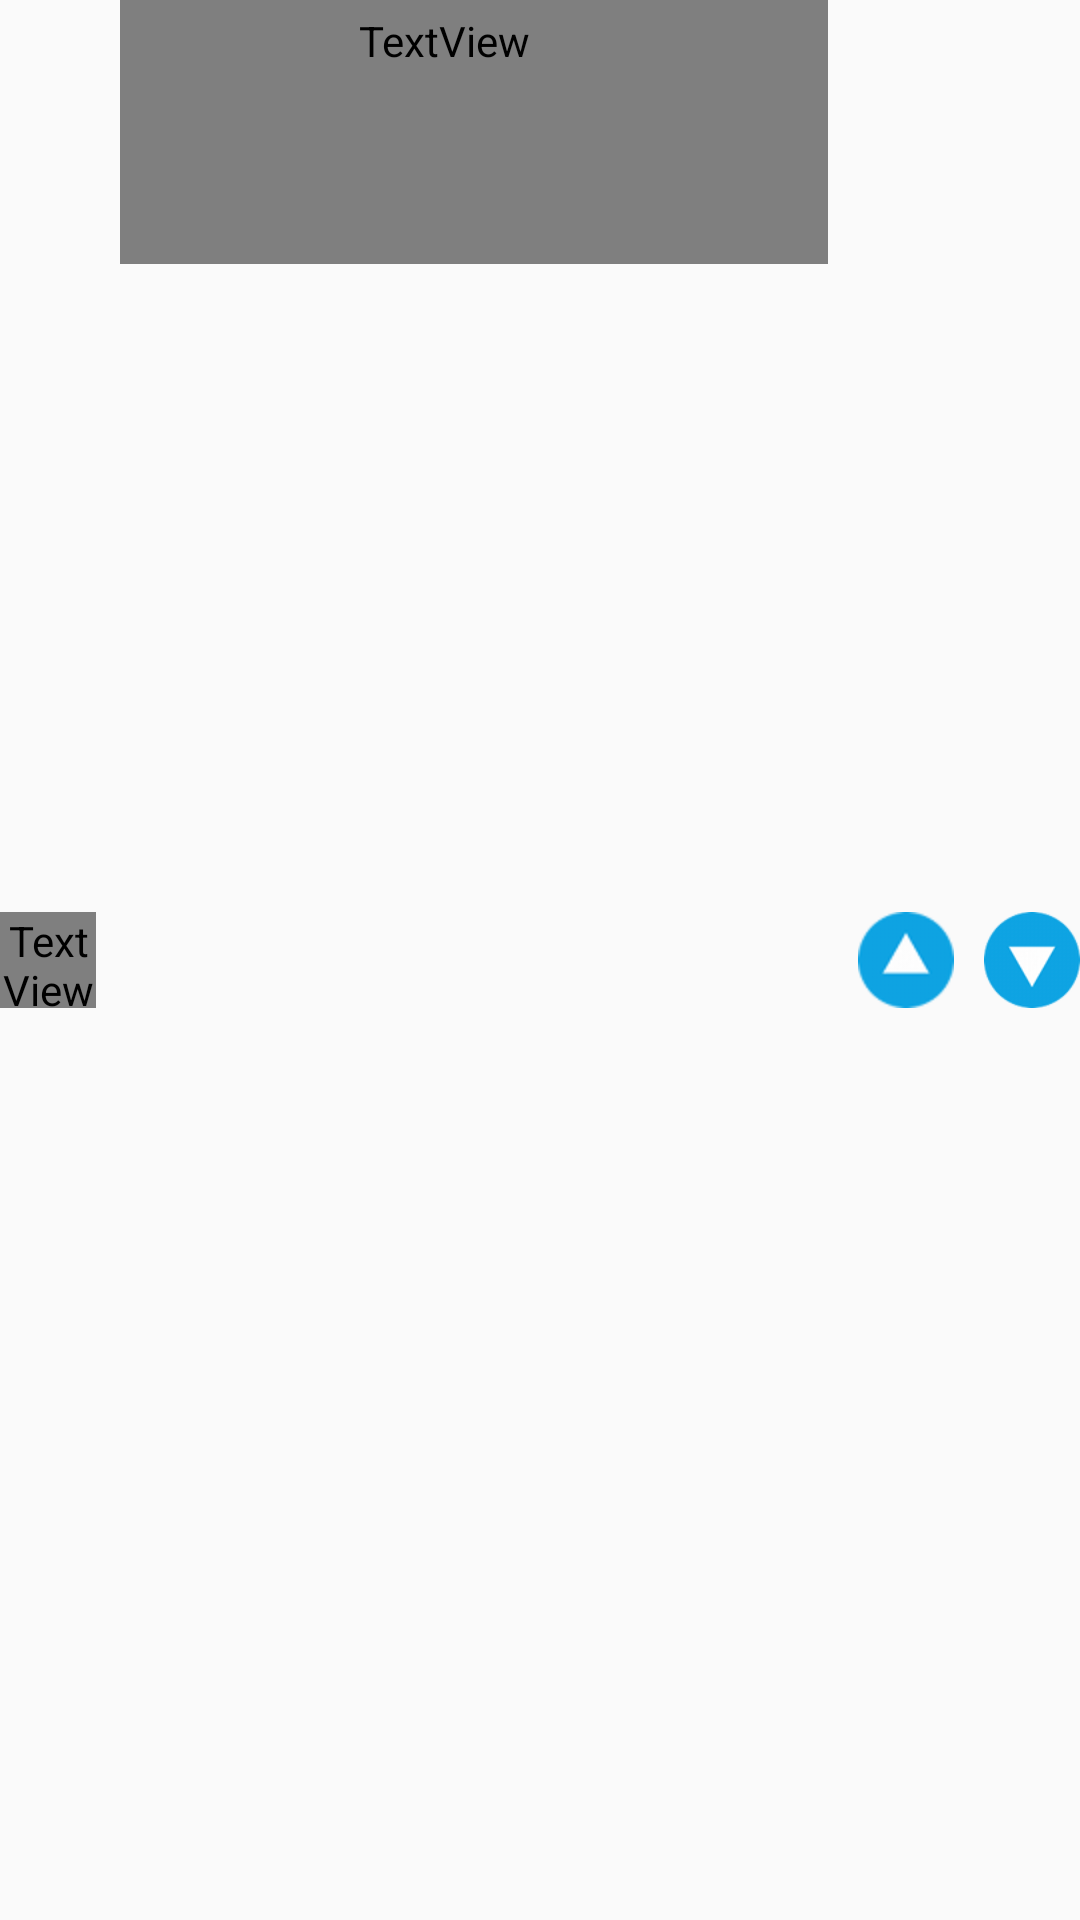

Point at icon controls on the screen. Image size 1080 × 1920, points as point (x, y).
down: point (1032, 960)
